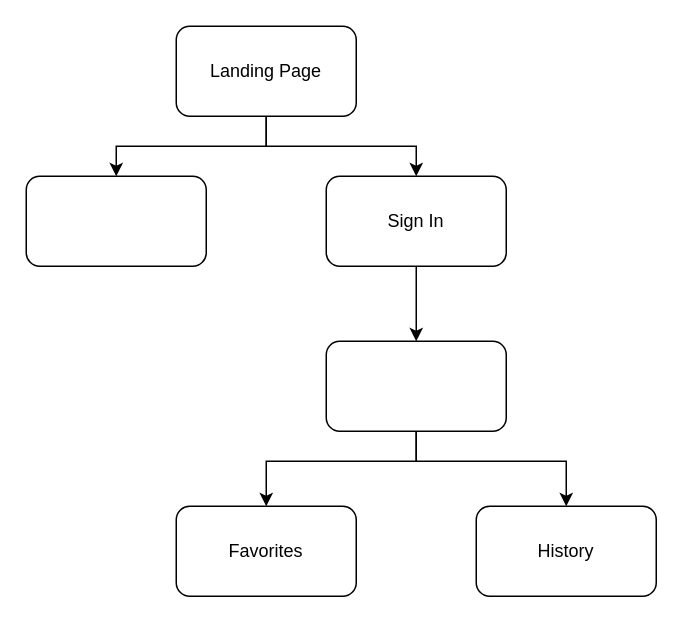
Image size: 683x623. Some labels were removed from this diagram. The centre of each missing label's shape, as x and y in pixels:
"Home" belongs at (x=415, y=385).
"Sign Up" belongs at (x=115, y=220).
